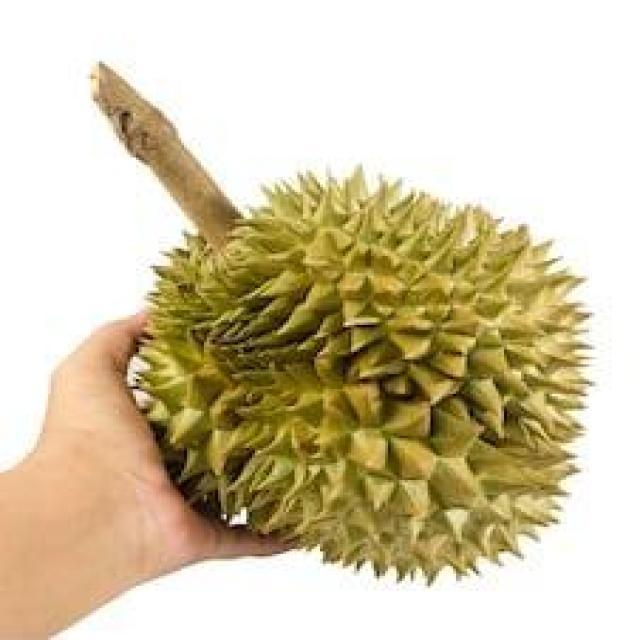mature: (131, 164, 592, 582)
